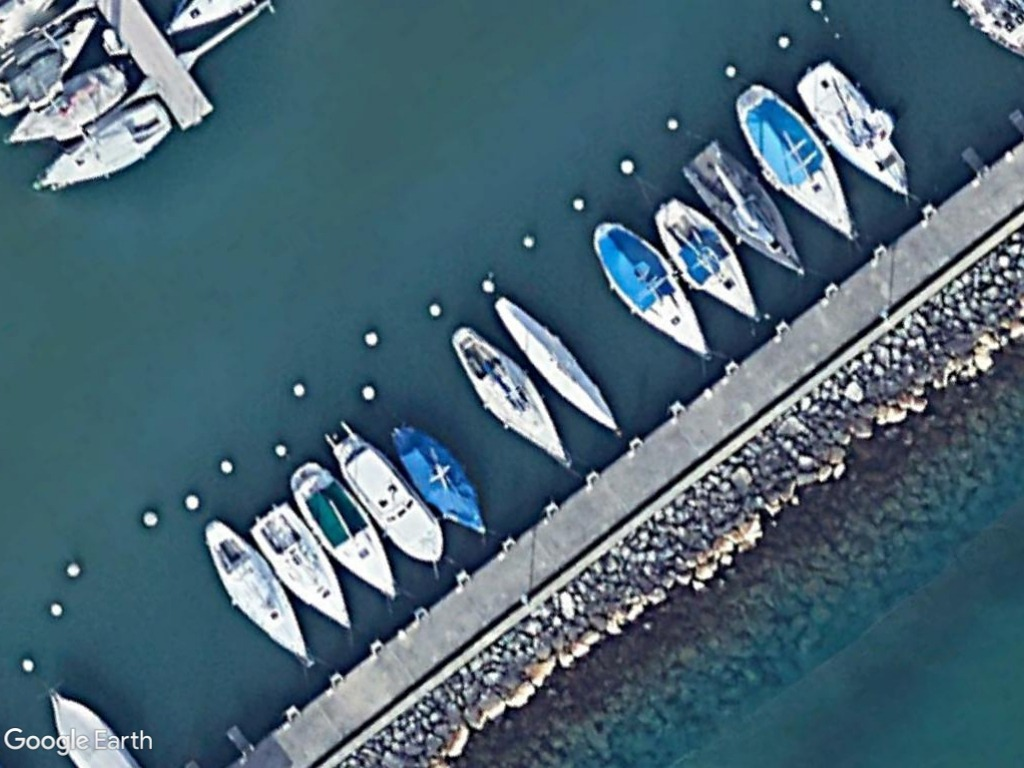boat: (732, 84, 861, 242), (492, 293, 625, 441), (588, 216, 716, 367), (448, 322, 570, 467), (680, 140, 806, 277), (286, 456, 403, 603), (326, 423, 446, 566), (792, 59, 914, 198), (203, 519, 312, 666), (651, 192, 766, 323), (248, 500, 359, 631), (31, 97, 171, 192), (388, 415, 492, 540), (4, 60, 132, 148)
